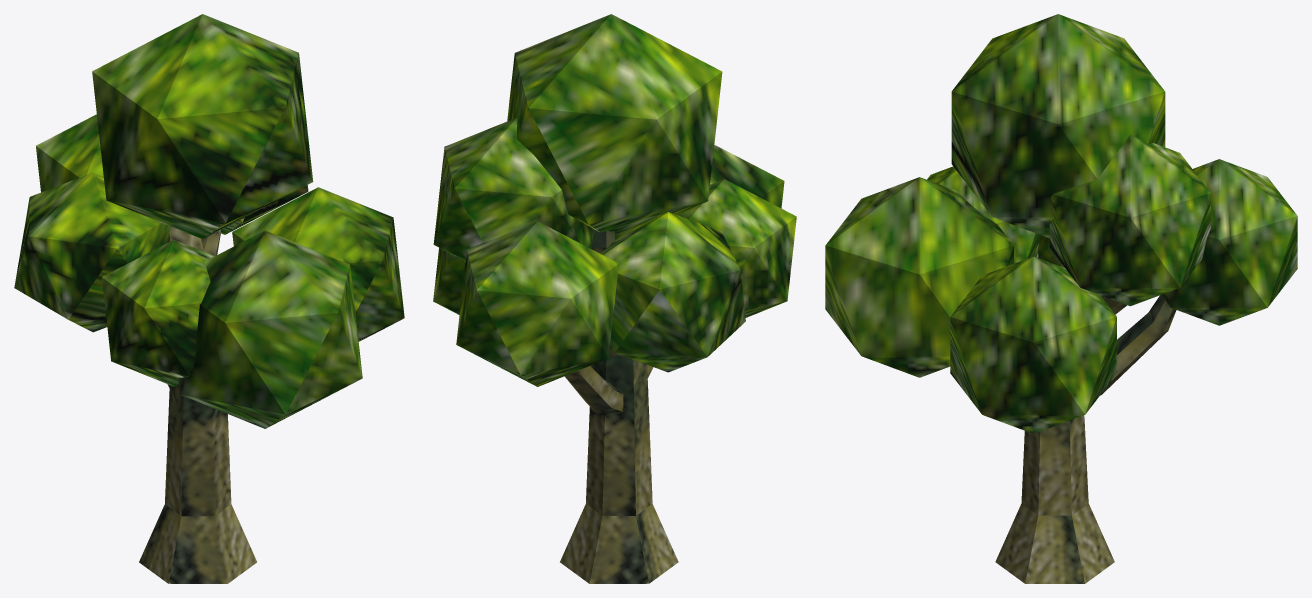
The model's file is Tree.fbx.
The picture shows the model from 3 angles, left to right: view 1: azimuth 30°, elevation 25°; view 2: azimuth 150°, elevation 25°; view 3: azimuth 270°, elevation 25°; orthographic projection.
Visible parts, largest first — view 1: Tree; view 2: Tree; view 3: Tree.
Boxes of the visible parts, <box> form: Tree: <box>14,14,404,583</box>; Tree: <box>433,14,796,583</box>; Tree: <box>825,14,1297,583</box>.
Size of the model in its own units: 196 by 309 by 240.
